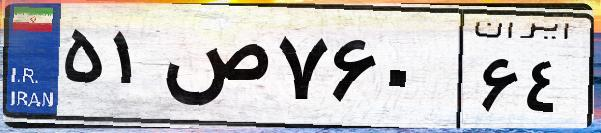0: (385, 28, 445, 110)
1: (110, 28, 158, 98)
4: (525, 38, 570, 115)
5: (57, 26, 110, 100)
6: (330, 28, 385, 110), (475, 38, 525, 113)
7: (270, 28, 330, 110)
ص: (158, 20, 270, 120)
